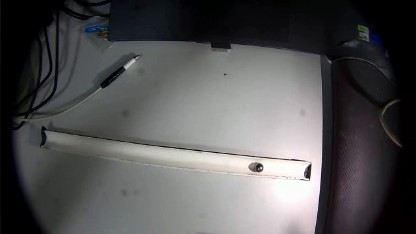gangzhu: (254, 162, 263, 171)
